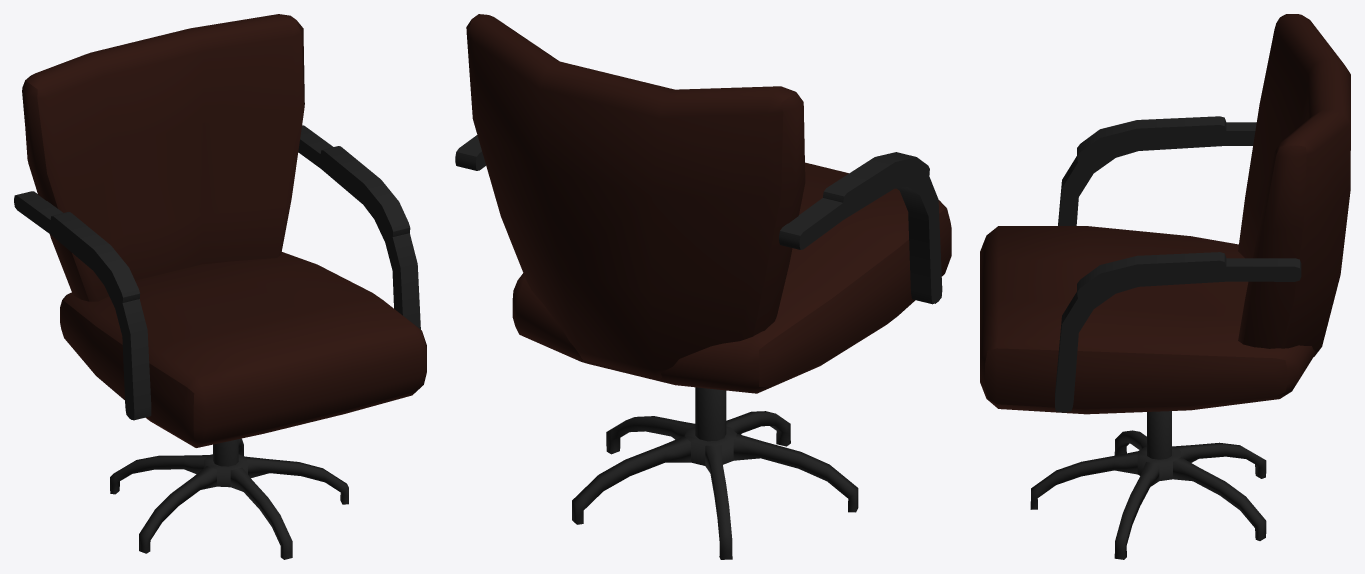
File: chair.fbx
3 renders of one model, left to right at view 1: azimuth 30°, elevation 25°; view 2: azimuth 150°, elevation 25°; view 3: azimuth 270°, elevation 25°, orthographic. The views are drawn at different scales.
Parts seen in each view (by area): view 1: chair; view 2: chair; view 3: chair.
Part boxes in pixels (x1,y1,x2,y2): chair: (14,14,426,559); chair: (455,14,951,559); chair: (980,14,1350,559).
Size of the model in its own units: 78.46 by 109 by 84.96.
